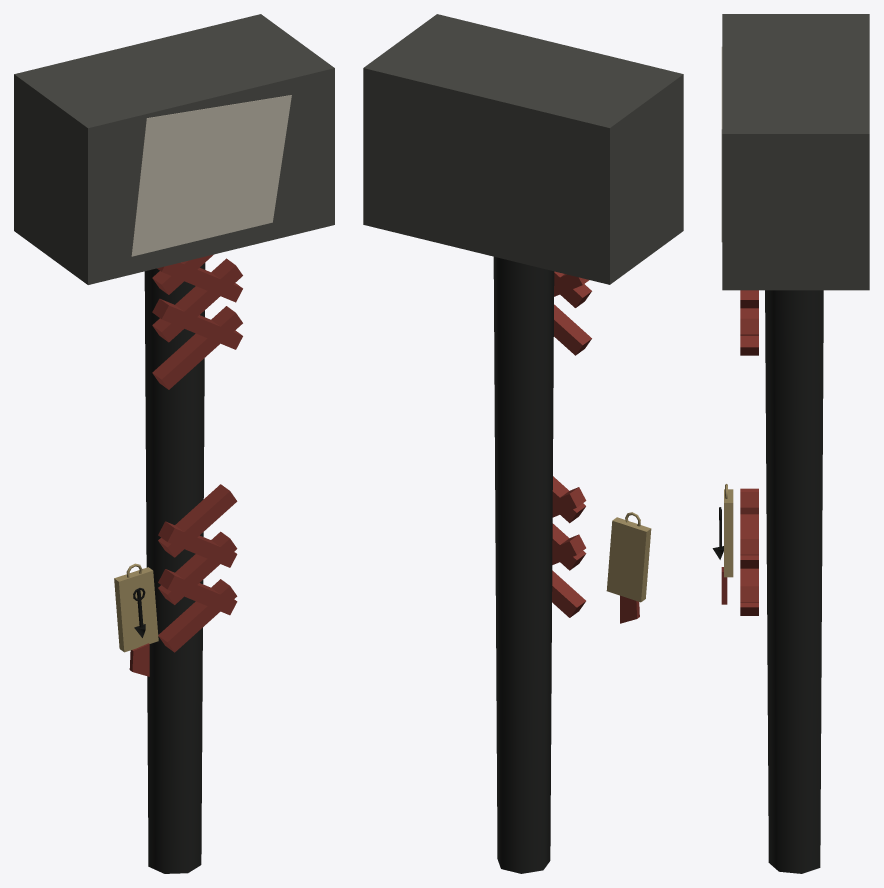
The model's file is fantasy-faceted-block-maul-v1.glb.
3 views of the same model, side by side, from view 1: azimuth 30°, elevation 25°; view 2: azimuth 150°, elevation 25°; view 3: azimuth 270°, elevation 25° (orthographic).
Parts seen in each view (by area): view 1: Block Maul; view 2: Block Maul; view 3: Block Maul.
Boxes of the visible parts, x1=… form: Block Maul: x1=14, y1=14, x2=334, y2=873; Block Maul: x1=363, y1=14, x2=683, y2=873; Block Maul: x1=712, y1=14, x2=869, y2=873.
Bounding box in the file's own units: 1.35 × 4.14 × 0.7469.
